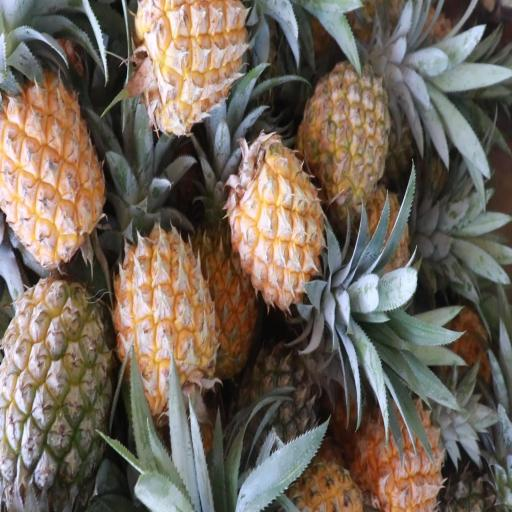------------------------------: (0, 280, 112, 508), (302, 65, 391, 208)
Pineapple - v8 v1: (0, 78, 104, 264), (114, 231, 214, 407), (230, 136, 328, 311), (133, 0, 248, 130), (351, 396, 442, 511), (194, 232, 256, 384)
